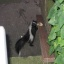skunk: (15, 20, 43, 47)
